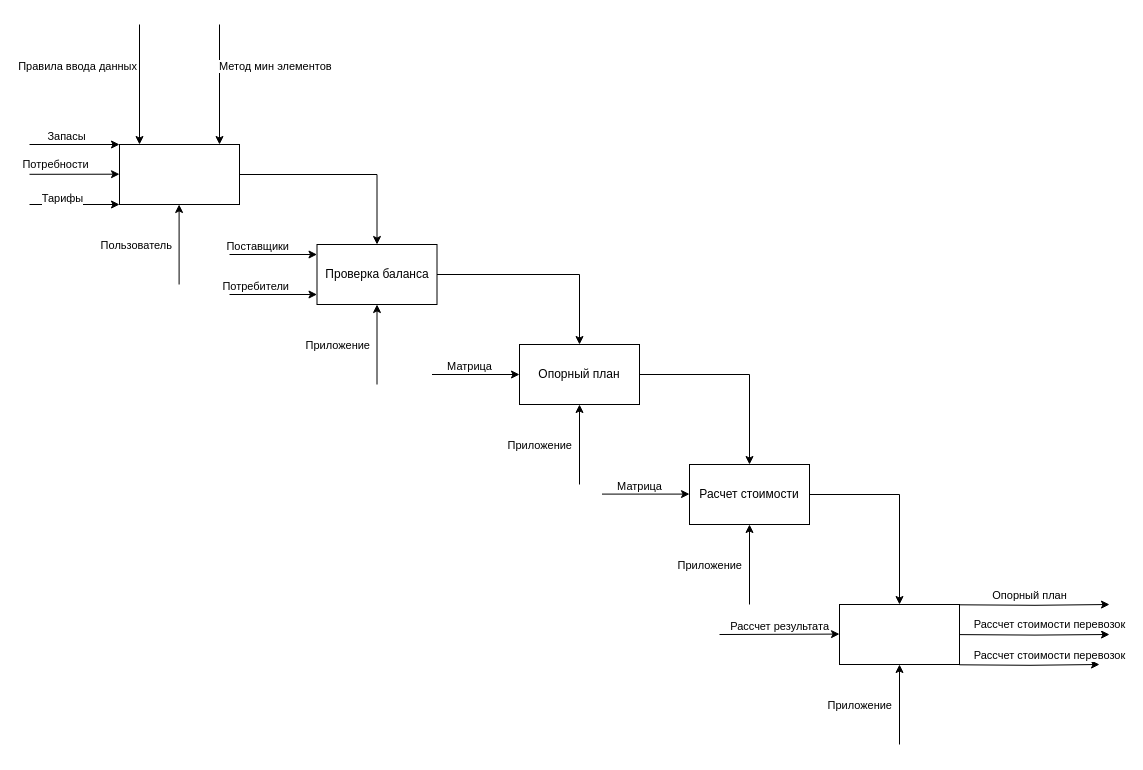
The diagram is 1143 pixels wide and 770 high, and some of its shapes have lost their labels. Each missing label, with the centre of its shape:
Результат: the point at 899,634
Сбор данных: the point at 179,174
